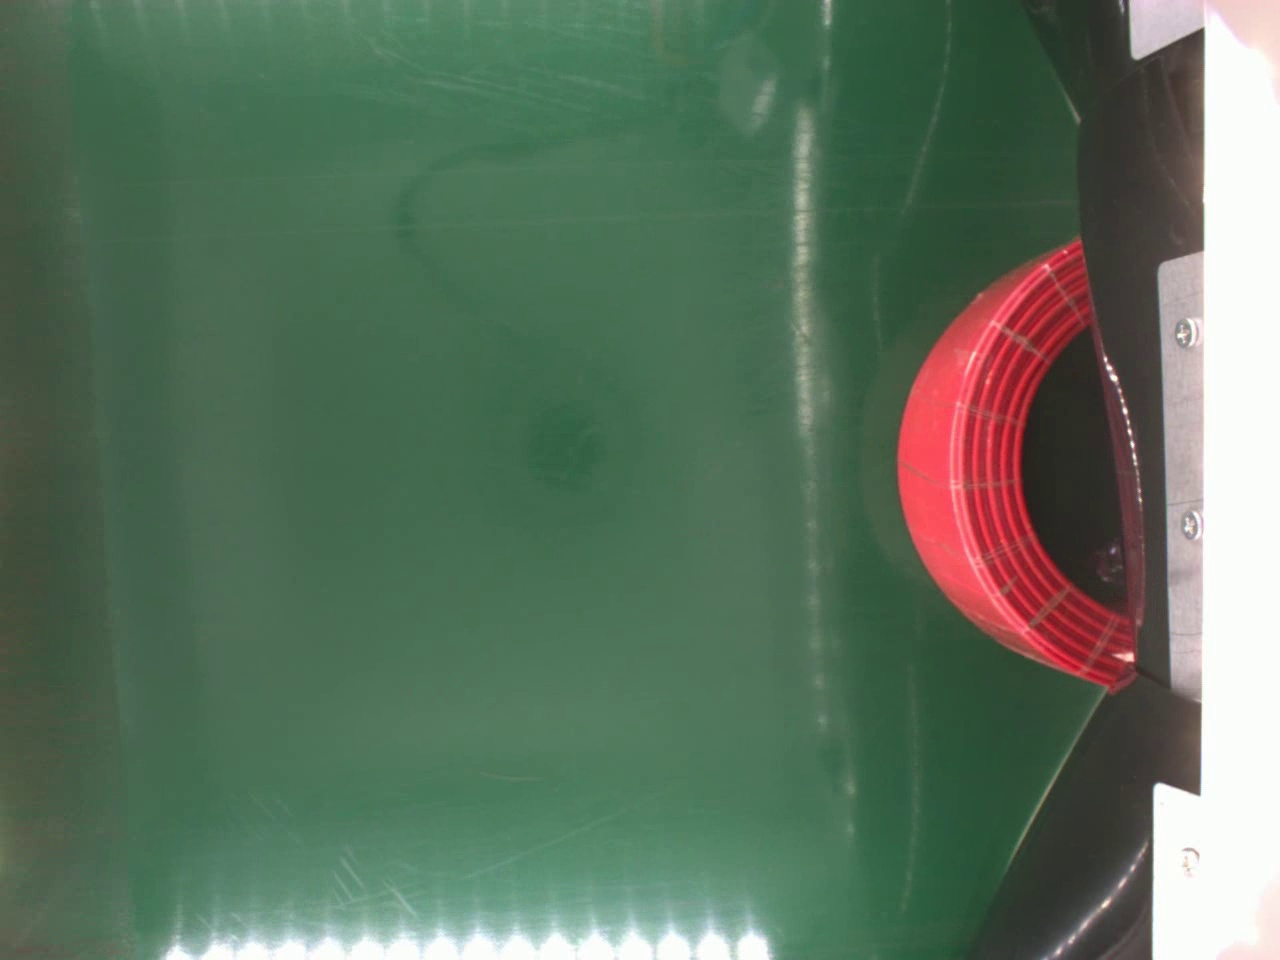red: (897, 237, 1134, 684)
